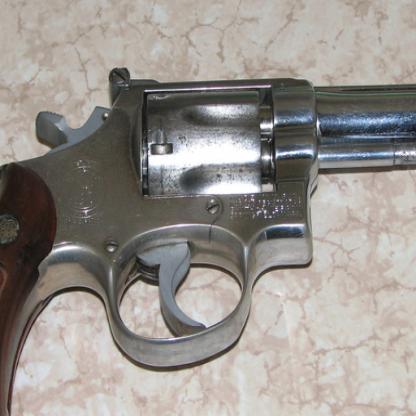gun: (0, 57, 415, 415)
